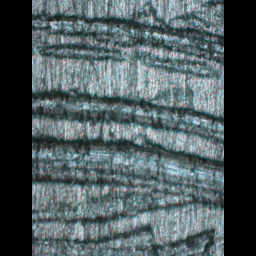d: (32, 0, 223, 81), (32, 130, 223, 210), (32, 84, 223, 144)
